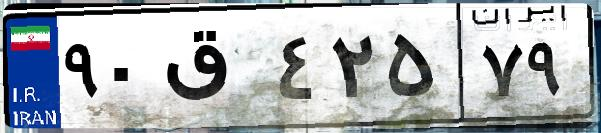0: (110, 28, 158, 98)
2: (330, 28, 385, 110)
4: (270, 28, 330, 110)
5: (385, 28, 445, 110)
7: (475, 38, 525, 113)
9: (57, 26, 110, 100), (525, 38, 570, 115)
ق: (158, 20, 270, 120)
